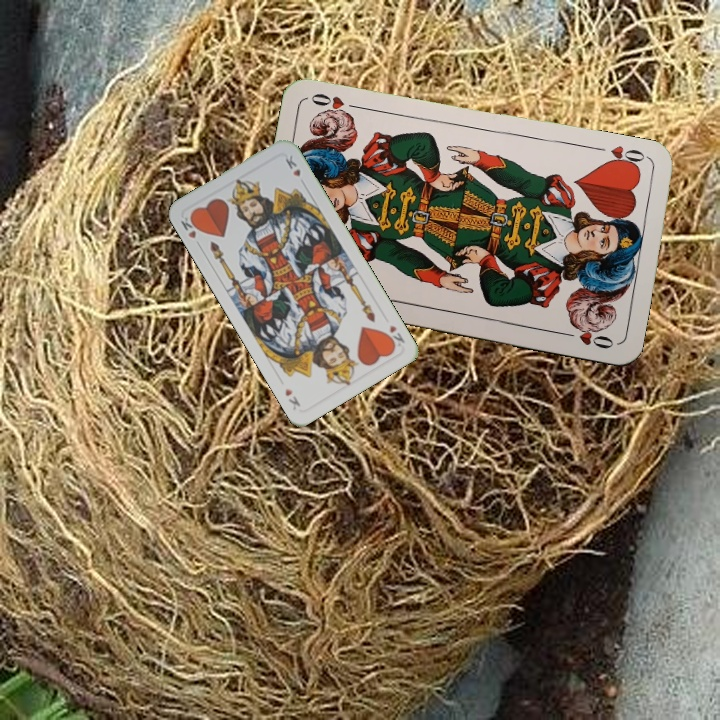HK: (177, 211, 204, 241), (381, 321, 407, 350)
HO: (600, 141, 652, 172)
